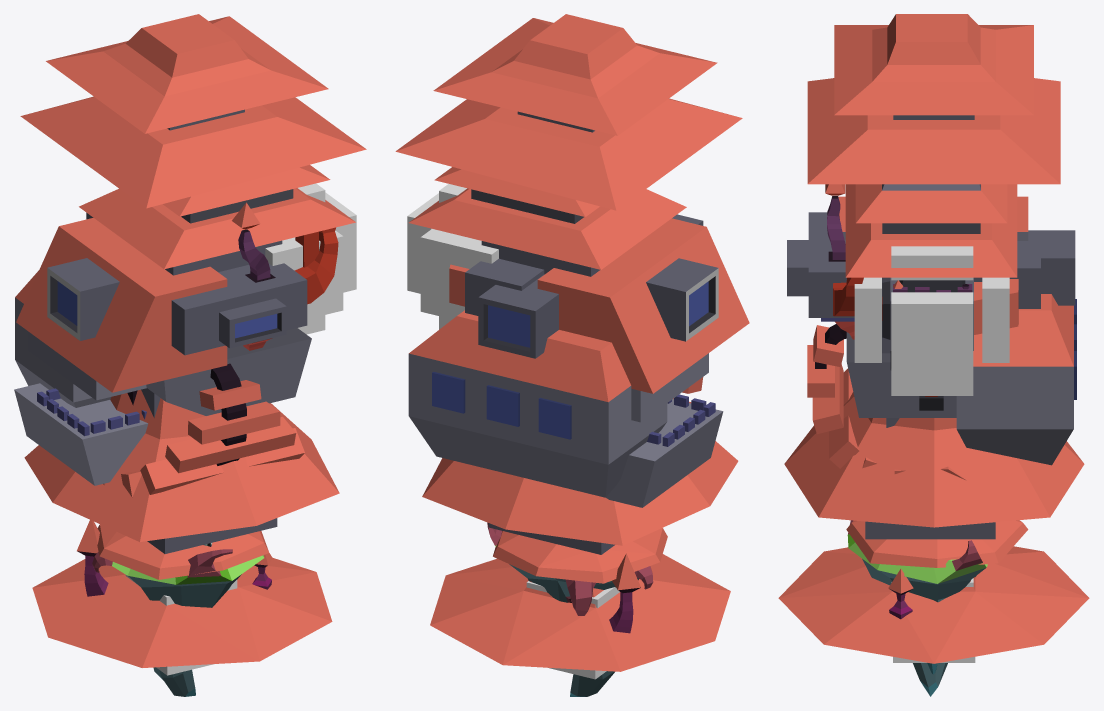
File: Chunks_00.fbx
3 views of the same model, side by side, from view 1: azimuth 30°, elevation 25°; view 2: azimuth 150°, elevation 25°; view 3: azimuth 270°, elevation 25° (orthographic).
Visible parts, largest first — view 1: Cube.035, Cube.008, Cube.024, Cube.042, Cube.005, Cube.023, Cube.007, Cube.041, Cube.028, Land, Cube.032, PlaceholderConnector.003 (+8 smaller); view 2: Cube.008, Cube.035, Cube.024, Cube.005, Cube.042, Cube.041, Cube.031, Cube.028, PlaceholderConnector.002, Land, Cube.019, Cone.002 (+5 smaller); view 3: Cube.035, Cube.042, Cube.024, Cube.008, Cube.005, PlaceholderConnector.020, Cube.041, Cube.007, Land, Cube.023, Cube.031, PlaceholderConnector.002 (+12 smaller).
Part boxes in pixels (box(x1,y1,x2,y2)): Cube.035: box(20, 14, 366, 208); Cube.008: box(14, 218, 304, 497); Cube.024: box(32, 558, 332, 667); Cube.042: box(24, 389, 339, 541); Cube.005: box(79, 165, 355, 269); Cube.023: box(171, 263, 307, 355); Cube.007: box(146, 328, 311, 415); Cube.041: box(97, 524, 269, 579); Cube.028: box(47, 258, 119, 340); Land: box(112, 555, 264, 696); Cube.032: box(219, 298, 286, 348); PlaceholderConnector.003: box(265, 230, 343, 318); Cube.008: box(408, 218, 749, 507); Cube.035: box(395, 14, 742, 210); Cube.024: box(430, 554, 730, 671); Cube.005: box(408, 167, 686, 269); Cube.042: box(422, 441, 738, 545); Cube.041: box(493, 528, 667, 583); Cube.031: box(478, 274, 558, 358); Cube.028: box(646, 258, 718, 341); PlaceholderConnector.002: box(420, 229, 498, 319); Land: box(490, 529, 638, 696); Cube.019: box(465, 258, 544, 315); Cone.002: box(609, 553, 640, 633); Cube.035: box(807, 14, 1060, 190); Cube.042: box(784, 392, 1084, 527); Cube.024: box(778, 546, 1089, 663); Cube.008: box(807, 196, 1076, 480); Cube.005: box(845, 184, 1017, 277); PlaceholderConnector.020: box(891, 292, 973, 378); Cube.041: box(846, 520, 1028, 567); Cube.007: box(846, 332, 956, 417); Land: box(848, 542, 987, 696); Cube.023: box(808, 212, 854, 317); Cube.031: box(1028, 230, 1075, 305); PlaceholderConnector.002: box(982, 277, 1009, 362).
Size of the model in its own units: 1216 by 2681 by 1137.
